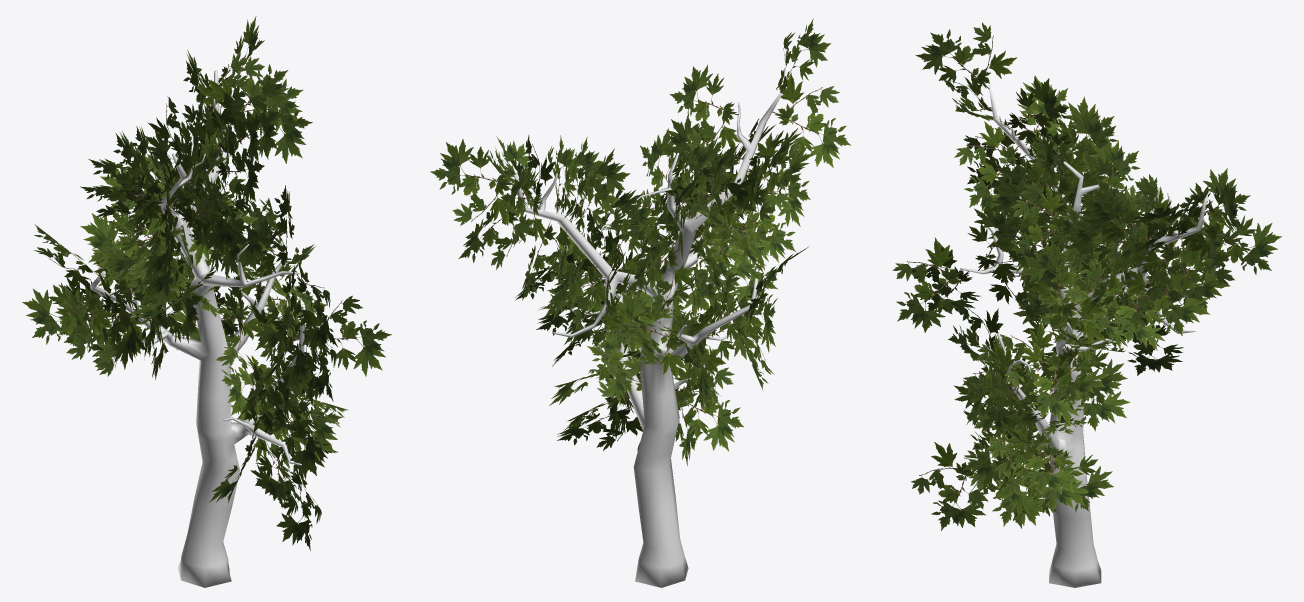
File: Tree_1 (1).fbx
3 views of the same model, side by side, from view 1: azimuth 30°, elevation 25°; view 2: azimuth 150°, elevation 25°; view 3: azimuth 270°, elevation 25° (orthographic). The views are drawn at different scales.
Parts seen in each view (by area): view 1: Stronk, Stronk|Blad|Dupli|75, Stronk|Blad|Dupli|28, Stronk|Blad|Dupli|98, Stronk|Blad|Dupli|35, Stronk|Blad|Dupli|86, Stronk|Blad|Dupli|23, Stronk|Blad|Dupli|10, Stronk|Blad|Dupli|56, Stronk|Blad|Dupli|37, Stronk|Blad|Dupli|9, Stronk|Blad|Dupli|6 (+55 smaller); view 2: Stronk, Stronk|Blad|Dupli|7, Stronk|Blad|Dupli|92, Stronk|Blad|Dupli|31, Stronk|Blad|Dupli|53, Stronk|Blad|Dupli|39, Stronk|Blad|Dupli|1, Stronk|Blad|Dupli|72, Stronk|Blad|Dupli|58, Stronk|Blad|Dupli|27, Stronk|Blad|Dupli|85, Stronk|Blad|Dupli|22 (+46 smaller); view 3: Stronk, Stronk|Blad|Dupli|14, Stronk|Blad|Dupli|56, Stronk|Blad|Dupli|2, Stronk|Blad|Dupli|85, Stronk|Blad|Dupli|38, Stronk|Blad|Dupli|21, Stronk|Blad|Dupli|3, Stronk|Blad|Dupli|29, Stronk|Blad|Dupli|8, Stronk|Blad|Dupli|55, Stronk|Blad|Dupli|23 (+53 smaller).
Boxes of the visible parts, x1,y1,x2,y2 form: Stronk: (89,70,304,587); Stronk|Blad|Dupli|75: (22,282,114,359); Stronk|Blad|Dupli|28: (298,295,391,376); Stronk|Blad|Dupli|98: (80,210,179,279); Stronk|Blad|Dupli|35: (217,80,312,163); Stronk|Blad|Dupli|86: (196,52,289,117); Stronk|Blad|Dupli|23: (175,185,247,256); Stronk|Blad|Dupli|10: (96,270,147,369); Stronk|Blad|Dupli|56: (295,260,337,356); Stronk|Blad|Dupli|37: (202,84,280,162); Stronk|Blad|Dupli|9: (265,385,327,479); Stronk|Blad|Dupli|6: (206,56,303,137); Stronk: (514,92,782,587); Stronk|Blad|Dupli|7: (430,139,516,225); Stronk|Blad|Dupli|92: (772,73,851,167); Stronk|Blad|Dupli|31: (669,64,741,154); Stronk|Blad|Dupli|53: (610,290,687,379); Stronk|Blad|Dupli|39: (674,361,743,451); Stronk|Blad|Dupli|1: (728,167,795,262); Stronk|Blad|Dupli|72: (626,241,694,314); Stronk|Blad|Dupli|58: (590,302,639,406); Stronk|Blad|Dupli|27: (742,146,814,221); Stronk|Blad|Dupli|85: (458,208,538,269); Stronk|Blad|Dupli|22: (500,164,546,247); Stronk: (960,85,1207,587); Stronk|Blad|Dupli|14: (1021,240,1107,322); Stronk|Blad|Dupli|56: (892,237,961,332); Stronk|Blad|Dupli|2: (915,22,1016,89); Stronk|Blad|Dupli|85: (1188,215,1281,285); Stronk|Blad|Dupli|38: (1133,244,1230,311); Stronk|Blad|Dupli|21: (911,442,988,530); Stronk|Blad|Dupli|3: (1123,267,1210,336); Stronk|Blad|Dupli|29: (962,343,1033,435); Stronk|Blad|Dupli|8: (995,428,1079,494); Stronk|Blad|Dupli|55: (967,201,1042,279); Stronk|Blad|Dupli|23: (954,121,1018,215).
Size of the model in its own units: 474 by 788 by 555.
Materials: 2 (1 with a texture image).
